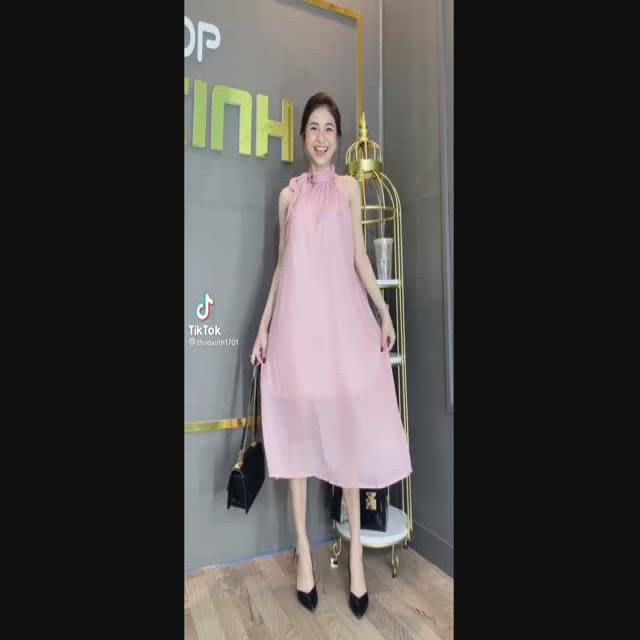clothes: (259, 174, 413, 488)
